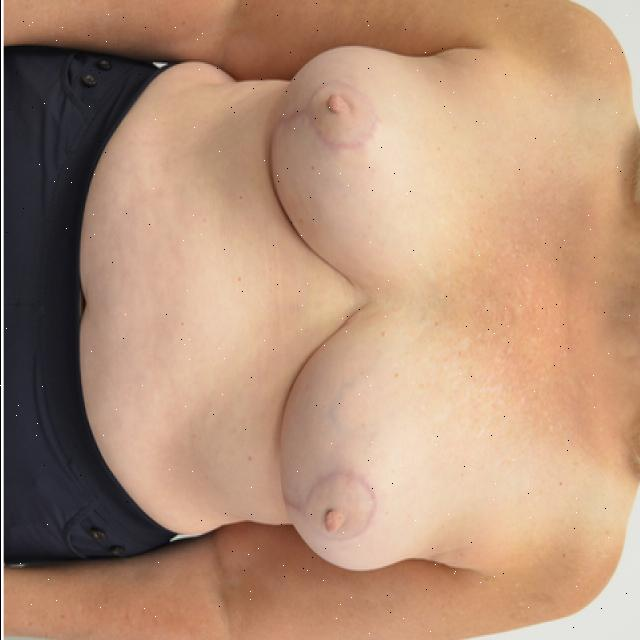Seno herido: (268, 306, 462, 577), (260, 40, 462, 300)
